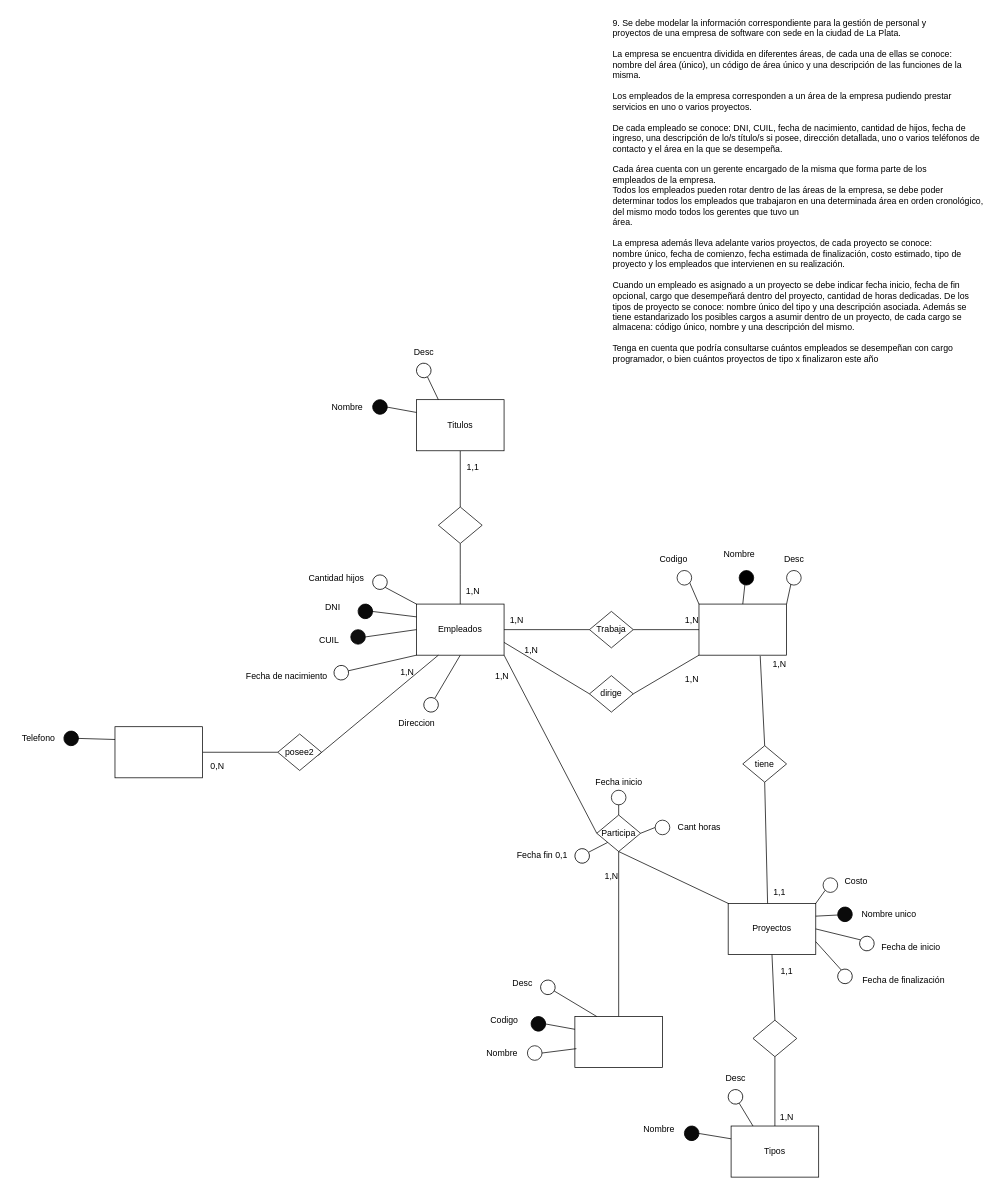
This 996x1190 diagram has some shape labels left out. Here are the shapes that lost their labels. From the top down, the box of each, then its label:
(438, 506, 482, 543): posee
(698, 603, 787, 655): Areas
(114, 726, 203, 778): Telefonos
(574, 1016, 662, 1068): Cargos
(752, 1019, 797, 1057): tiene2
